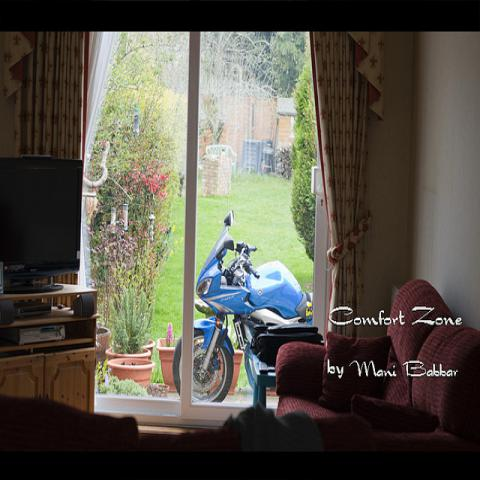motorcycle: (173, 208, 314, 407)
